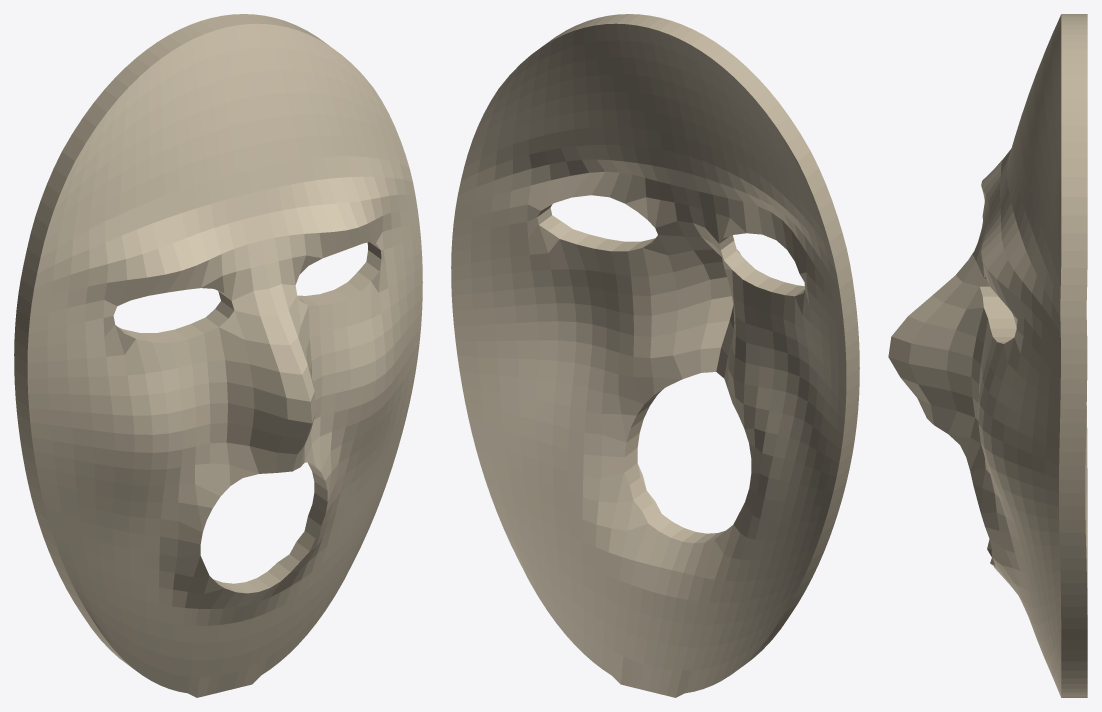
The picture shows the model from 3 angles, left to right: view 1: azimuth 30°, elevation 25°; view 2: azimuth 150°, elevation 25°; view 3: azimuth 270°, elevation 25°; orthographic projection.
Parts seen in each view (by area): view 1: WholeCarvedFaceShellWithTwoEyesAndOpenMouth; view 2: WholeCarvedFaceShellWithTwoEyesAndOpenMouth; view 3: WholeCarvedFaceShellWithTwoEyesAndOpenMouth.
Boxes of the visible parts, x1=… form: WholeCarvedFaceShellWithTwoEyesAndOpenMouth: x1=14, y1=14, x2=422, y2=697; WholeCarvedFaceShellWithTwoEyesAndOpenMouth: x1=451, y1=14, x2=859, y2=697; WholeCarvedFaceShellWithTwoEyesAndOpenMouth: x1=888, y1=14, x2=1087, y2=697.
Bounding box in the file's own units: 0.5984 × 0.96 × 0.2646.
